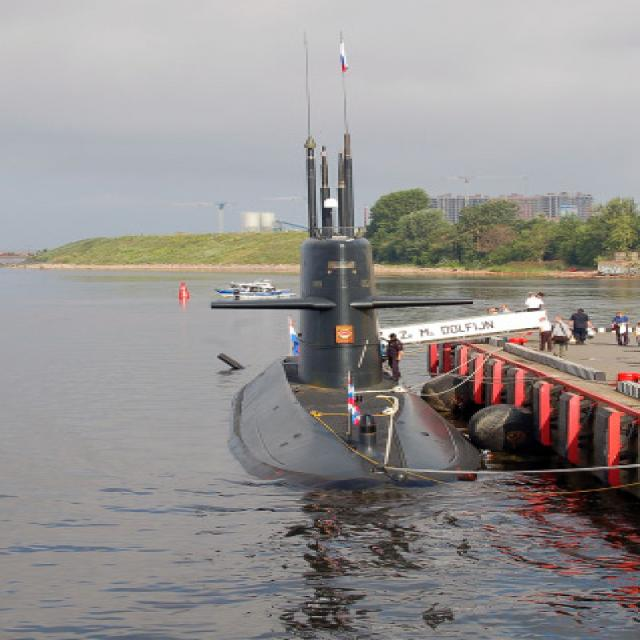submarine: (184, 84, 482, 496)
